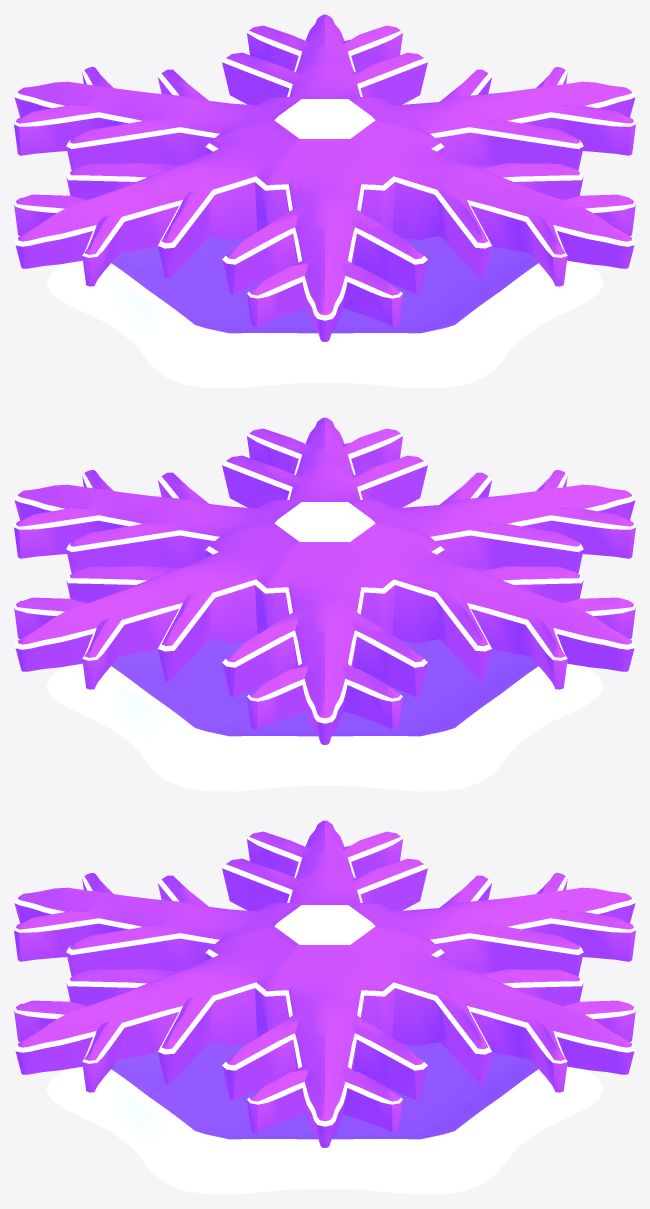
Rendered from Ice_Snowflake_Violet.glb.
3 renders of one model, top to bottom at view 1: azimuth 30°, elevation 25°; view 2: azimuth 150°, elevation 25°; view 3: azimuth 270°, elevation 25°, orthographic.
Visible parts, largest first — view 1: Button_Violet_Surface, Button_Violet_Frame; view 2: Button_Violet_Surface, Button_Violet_Frame; view 3: Button_Violet_Surface, Button_Violet_Frame.
Part boxes in pixels (left/top/right/bottom): Button_Violet_Surface: left=14, top=14, right=635, bottom=341; Button_Violet_Frame: left=46, top=236, right=603, bottom=388; Button_Violet_Surface: left=14, top=417, right=635, bottom=744; Button_Violet_Frame: left=46, top=639, right=603, bottom=791; Button_Violet_Surface: left=14, top=820, right=635, bottom=1147; Button_Violet_Frame: left=46, top=1042, right=603, bottom=1194.
Bounding box in the file's own units: 2 × 0.525 × 1.74.
